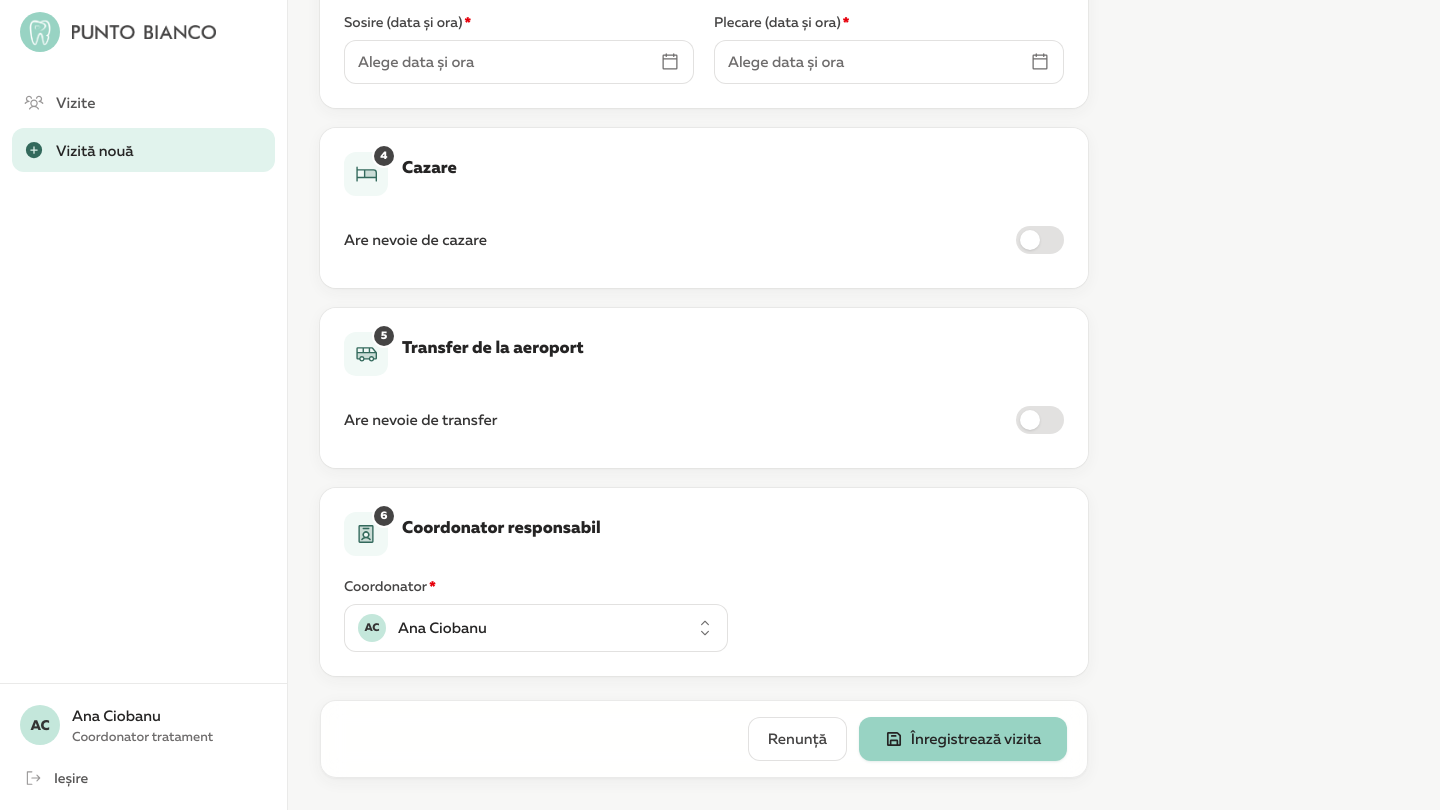
Test: „Vizita a fost înregistrată” se arată o singură dată › după înregistrare, „Înapoi” duce la lista vizitelor (nu la formularul trimis) și mesajul nu mai apare
(page scrolled)
Click the button "Înregistrează vizita" at coordinates (963, 738), box [859, 716, 1067, 760]
(page scrolled)
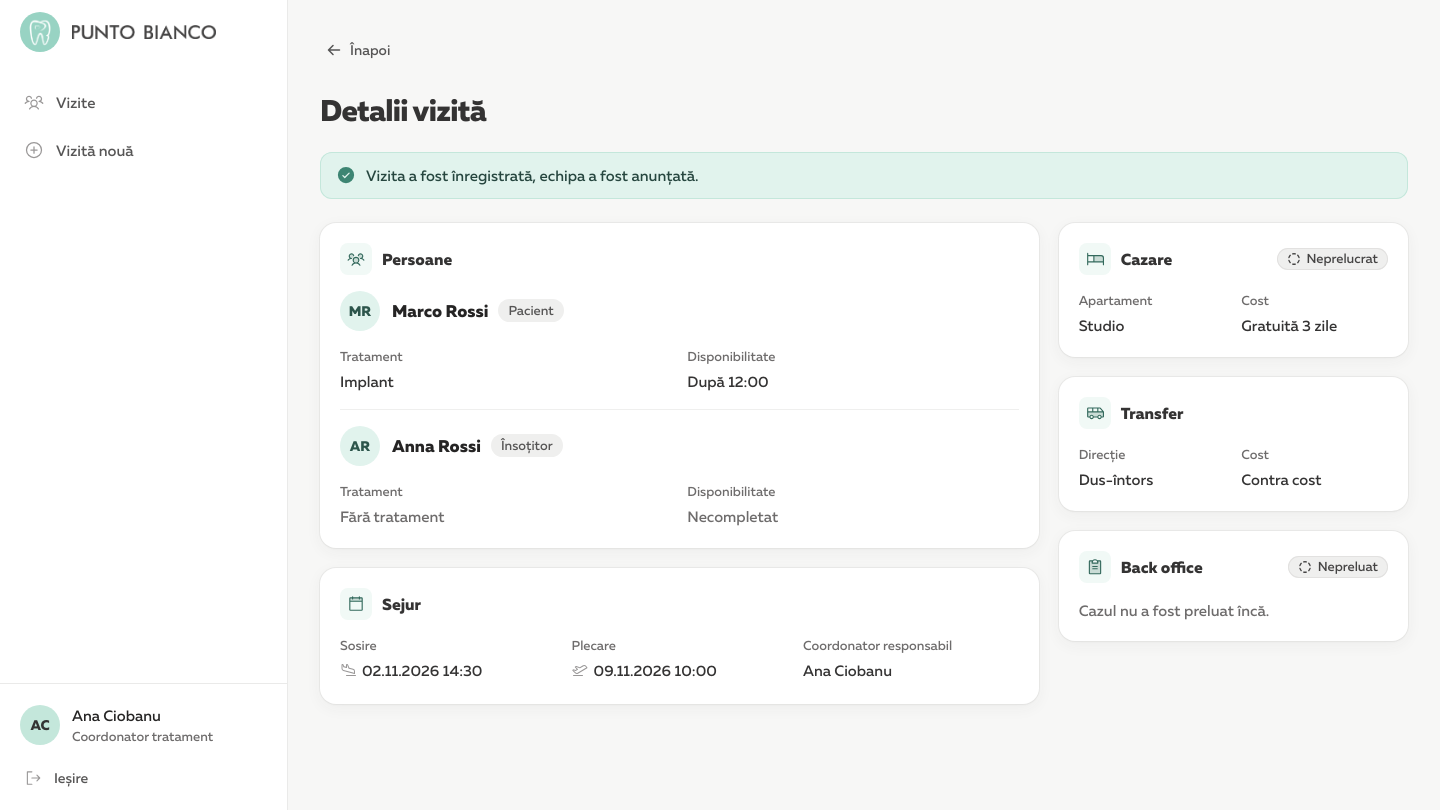
Check: the text "Vizita a fost înregistrată, echipa a fost anunțată." is shown, box [320, 152, 1408, 198]
Click the button "Înapoi" at coordinates (358, 50), box [312, 32, 404, 68]
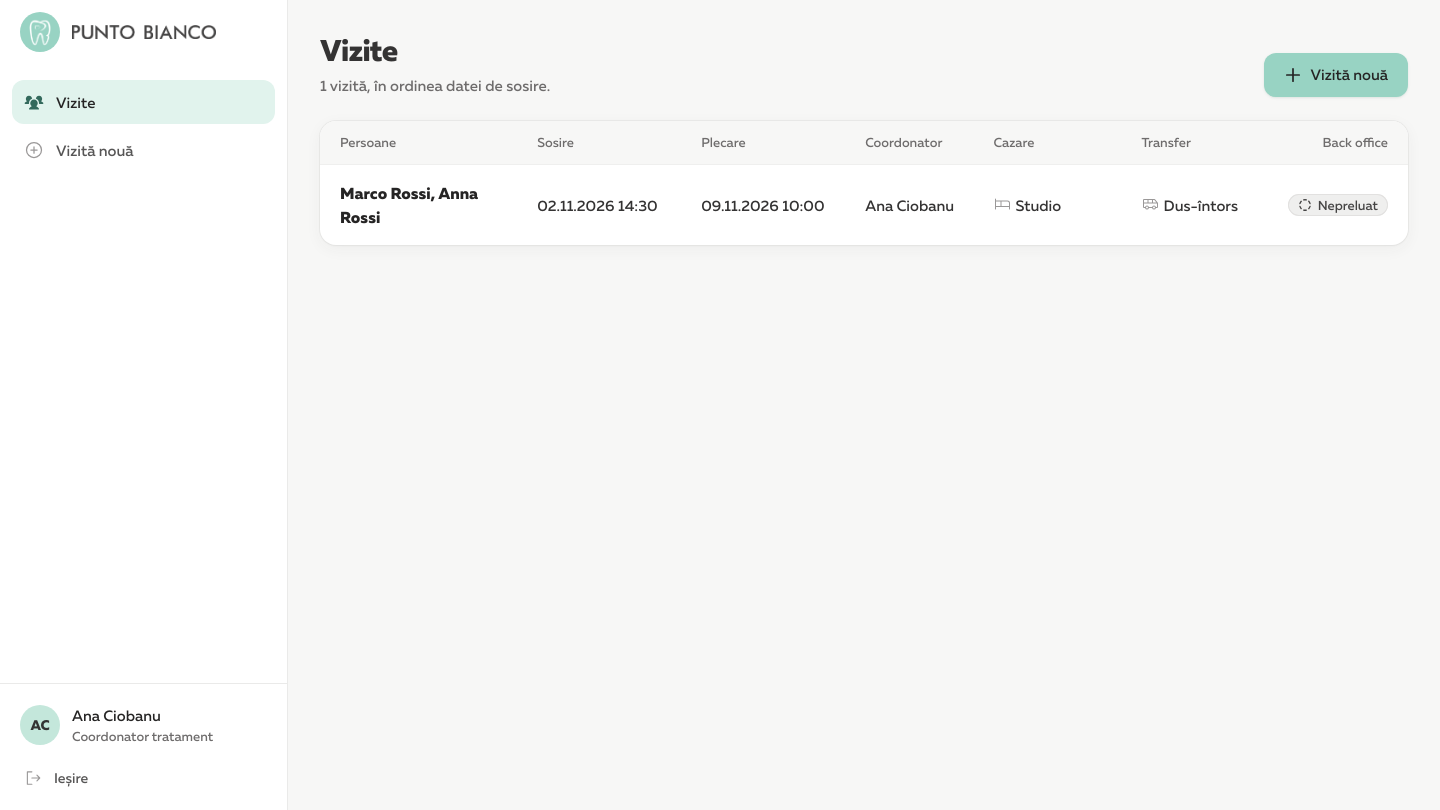
Check: the heading "Vizite" is shown, box [320, 32, 398, 68]
// din listă, înapoi la aceeași vizită: fără mesajul de înregistrare
Click the link "Marco Rossi, Anna Rossi" at coordinates (409, 193), box [340, 183, 478, 227]
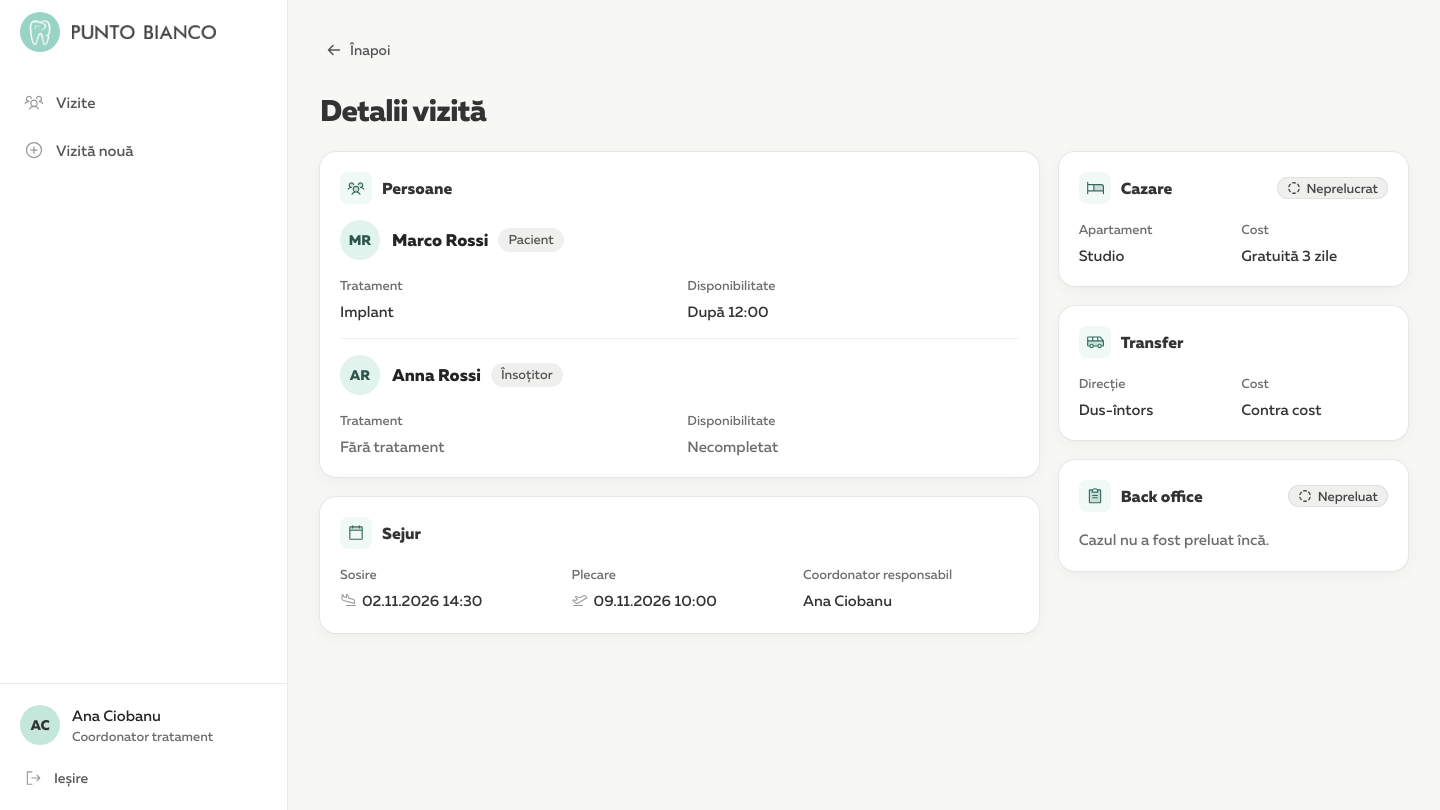
Check: the text "Vizita a fost înregistrată, echipa a fost anunțată." is not shown
Check: the heading "Detalii vizită" is shown, box [320, 92, 486, 128]
